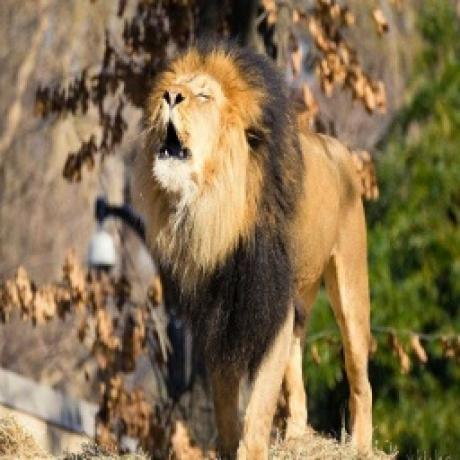Lion: (139, 39, 378, 460)
